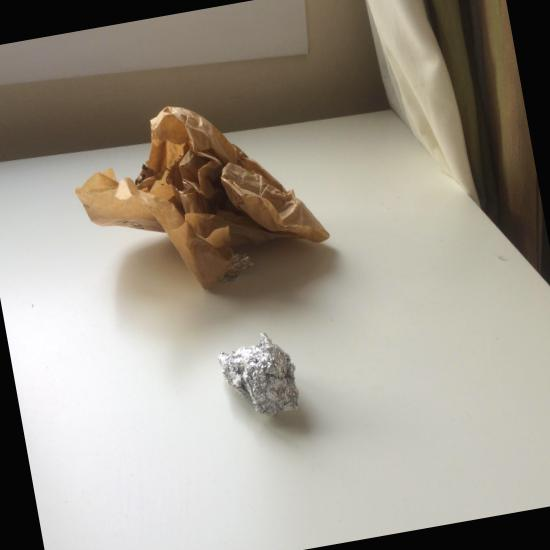Aluminium foil: (217, 331, 299, 415), (217, 253, 253, 282)
Paper bag: (75, 106, 329, 289)
